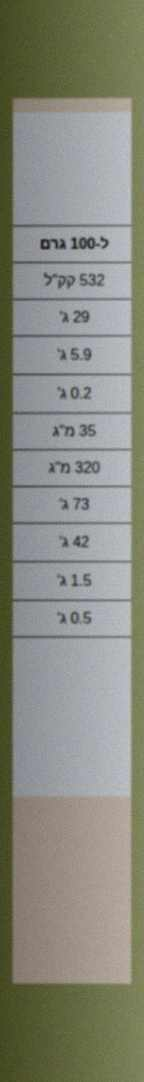carbs: (57, 494, 91, 514)
energy: (42, 270, 107, 290)
fat: (57, 307, 91, 327)
protein: (55, 608, 93, 628)
